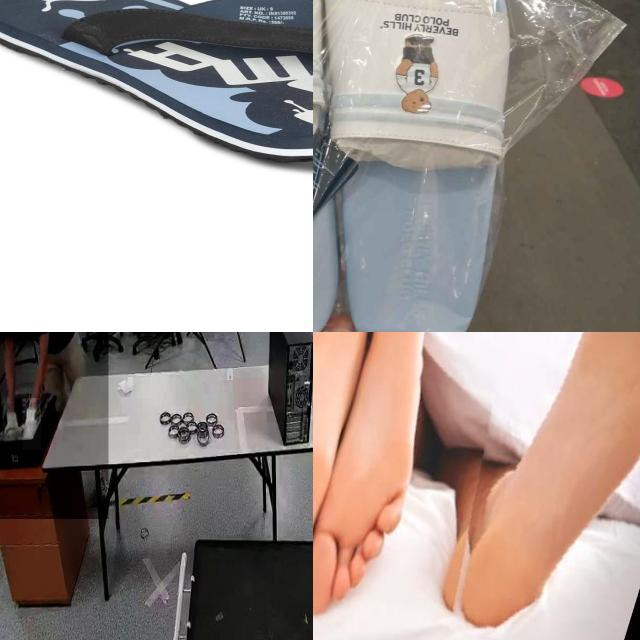Barefoots: (415, 332, 640, 640), (313, 332, 480, 640), (313, 332, 403, 611)
Sandals: (313, 0, 541, 332), (0, 0, 313, 165)
hand_glove: (22, 398, 42, 451), (2, 403, 21, 447)
person: (0, 332, 109, 520)
